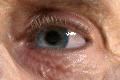eye: (38, 27, 68, 47)
